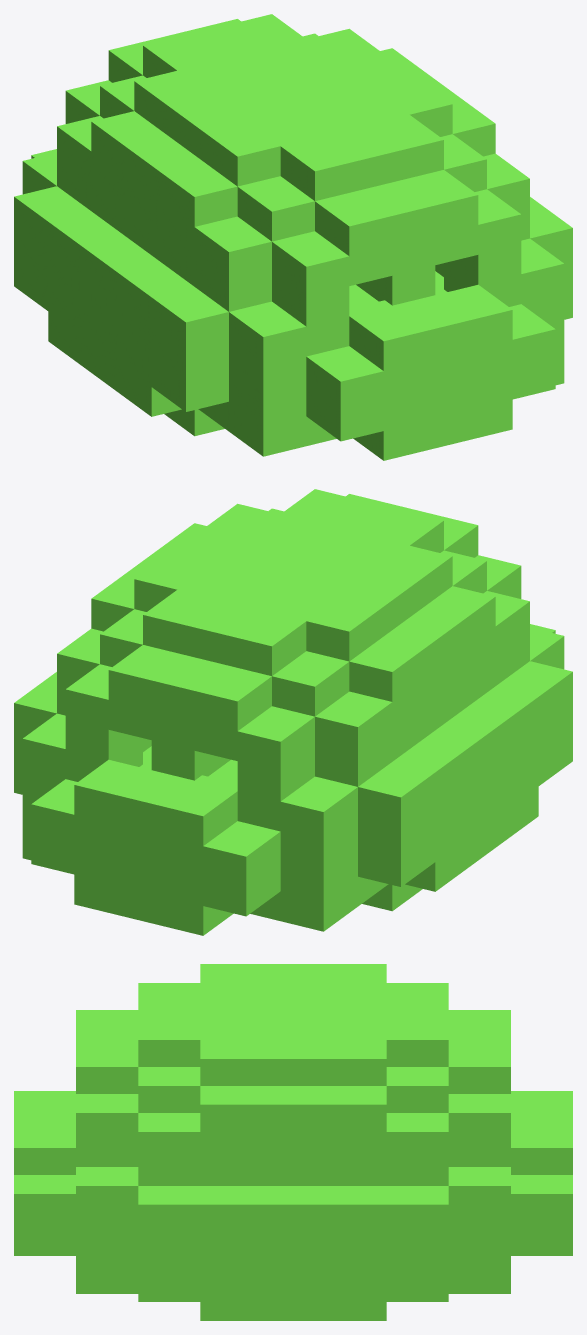
File: bush2.fbx
The picture shows the model from 3 angles, top to bottom: view 1: azimuth 30°, elevation 25°; view 2: azimuth 150°, elevation 25°; view 3: azimuth 270°, elevation 25°; orthographic projection. The views are drawn at different scales.
Visible parts, largest first — view 1: Leaves4; view 2: Leaves4; view 3: Leaves4.
Boxes of the visible parts, <box> form: Leaves4: <box>14,14,572,460</box>; Leaves4: <box>14,489,572,935</box>; Leaves4: <box>14,964,572,1320</box>.
Size of the model in its own units: 108 by 72.08 by 150.
